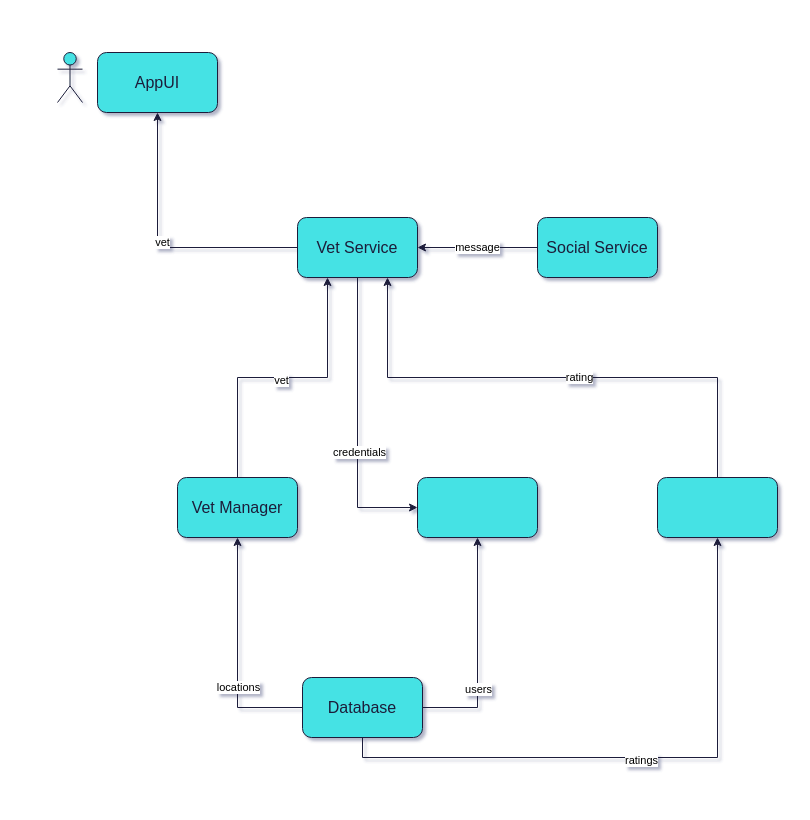
This 810x820 diagram has some shape labels left out. Each missing label, with the centre of its shape:
Rating Calculator: pixel 717 507
User: pixel 69 77
User Manager: pixel 477 507
